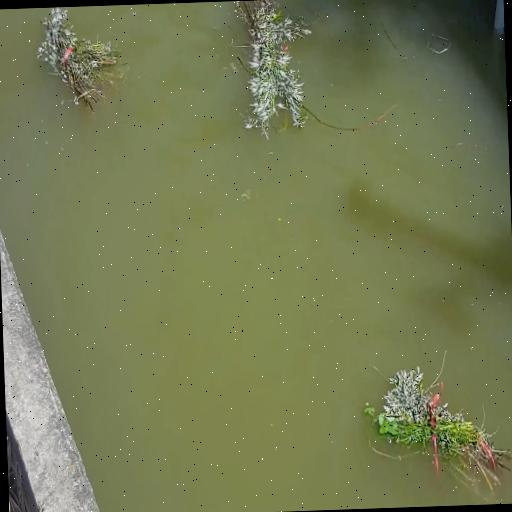twig: (228, 0, 396, 138), (362, 351, 512, 499), (36, 7, 126, 116)
